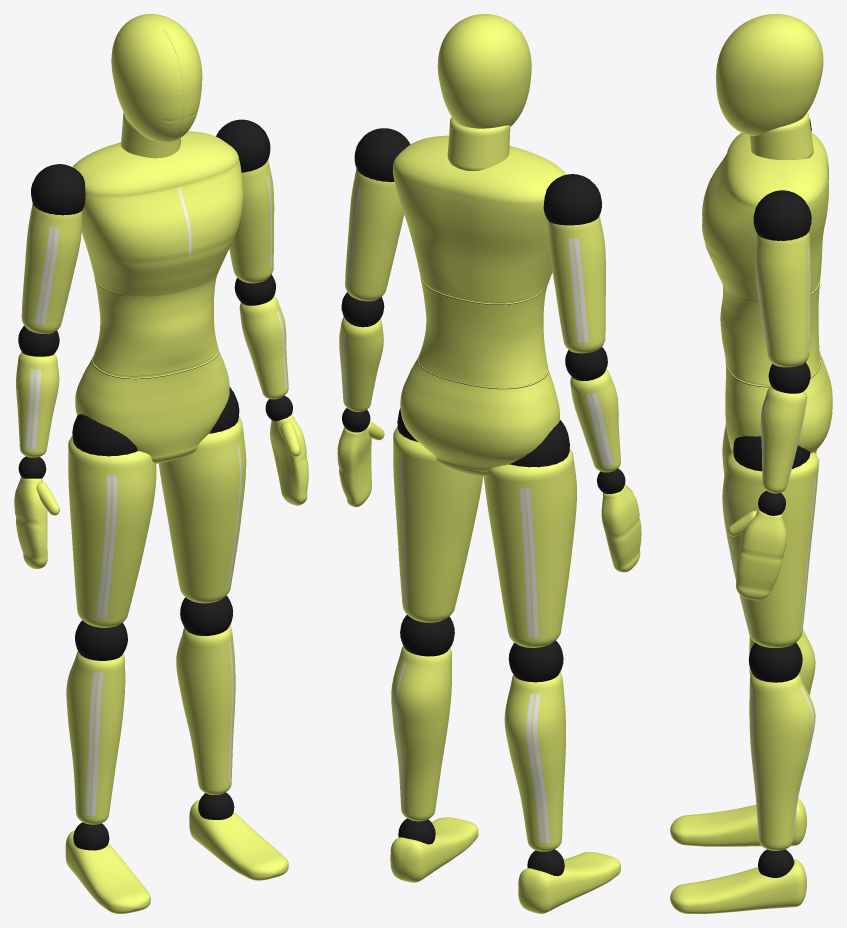
Rendered from person__lite.glb.
3 renders of one model, left to right at view 1: azimuth 30°, elevation 25°; view 2: azimuth 150°, elevation 25°; view 3: azimuth 270°, elevation 25°, orthographic. The views are drawn at different scales.
Parts seen in each view (by area): view 1: geo_chest, geo_thigh_R, geo_thigh_L, geo_pelvis, geo_abdomen, geo_head, geo_shin_L, geo_shin_R, geo_upperArm_R, geo_upperArm_L, geo_foot_L, geo_foot_R (+19 smaller); view 2: geo_chest, geo_thigh_R, geo_pelvis, geo_thigh_L, geo_abdomen, geo_head, geo_shin_L, geo_shin_R, geo_upperArm_R, geo_upperArm_L, geo_foot_R, geo_foot_L (+18 smaller); view 3: geo_chest, geo_head, geo_thigh_L, geo_shin_L, geo_upperArm_L, geo_foot_L, geo_abdomen, geo_pelvis, geo_forearm_L, geo_foot_R, geo_hand_L, ball_shoulder_L (+7 smaller).
Boxes of the visible parts, x1,y1,x2,y2 form: geo_chest: (72, 131, 243, 296); geo_thigh_R: (68, 435, 156, 627); geo_thigh_L: (158, 416, 246, 603); geo_pelvis: (75, 349, 229, 463); geo_abdomen: (92, 275, 218, 376); geo_head: (111, 14, 202, 142); geo_shin_L: (176, 625, 235, 794); geo_shin_R: (66, 651, 125, 824); geo_upperArm_R: (21, 203, 82, 333); geo_upperArm_L: (229, 159, 274, 283); geo_foot_L: (189, 800, 288, 880); geo_foot_R: (65, 830, 150, 913); geo_chest: (393, 135, 565, 302); geo_thigh_R: (484, 448, 576, 647); geo_pelvis: (400, 356, 559, 477); geo_thigh_L: (393, 426, 482, 622); geo_abdomen: (418, 277, 548, 387); geo_head: (437, 14, 531, 128); geo_shin_L: (391, 645, 451, 821); geo_shin_R: (504, 672, 565, 851); geo_upperArm_R: (548, 215, 605, 353); geo_upperArm_L: (345, 168, 403, 301); geo_foot_R: (518, 852, 620, 913); geo_foot_L: (390, 817, 478, 882); geo_chest: (702, 132, 828, 300); geo_head: (716, 14, 823, 136); geo_thigh_L: (722, 451, 819, 647); geo_shin_L: (749, 674, 815, 850); geo_upperArm_L: (755, 231, 810, 367); geo_foot_L: (670, 859, 806, 913); geo_abdomen: (720, 279, 820, 385); geo_pelvis: (725, 352, 832, 453); geo_forearm_L: (760, 386, 807, 493); geo_foot_R: (670, 799, 806, 846); geo_hand_L: (736, 509, 786, 600); ball_shoulder_L: (753, 190, 811, 240).
Bounding box in the file's own units: 0.6083 × 1.75 × 0.301.
